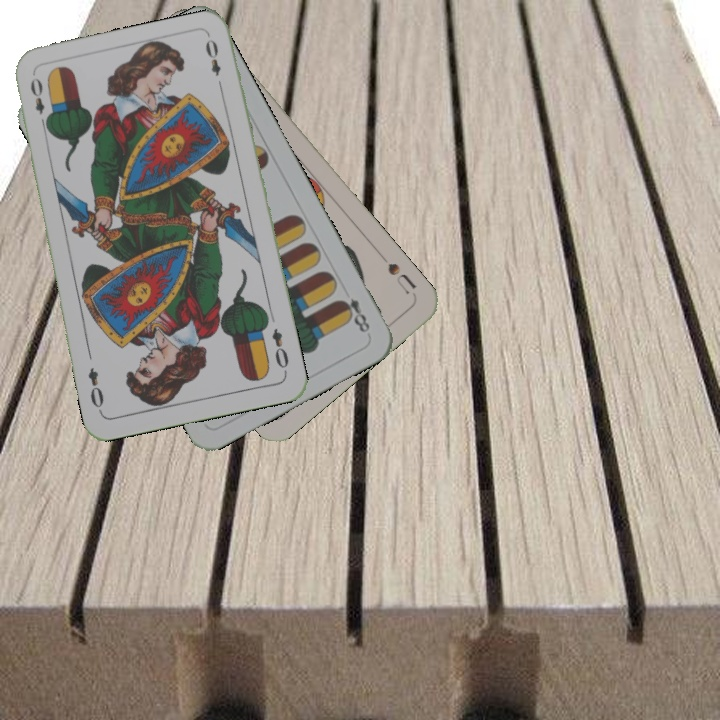E8: (335, 293, 373, 335)
EO: (26, 73, 52, 131), (268, 324, 292, 376)
SU: (383, 258, 420, 297)
